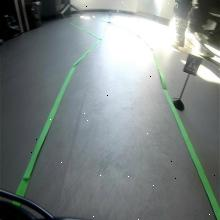crosswalk: (182, 54, 202, 76)
